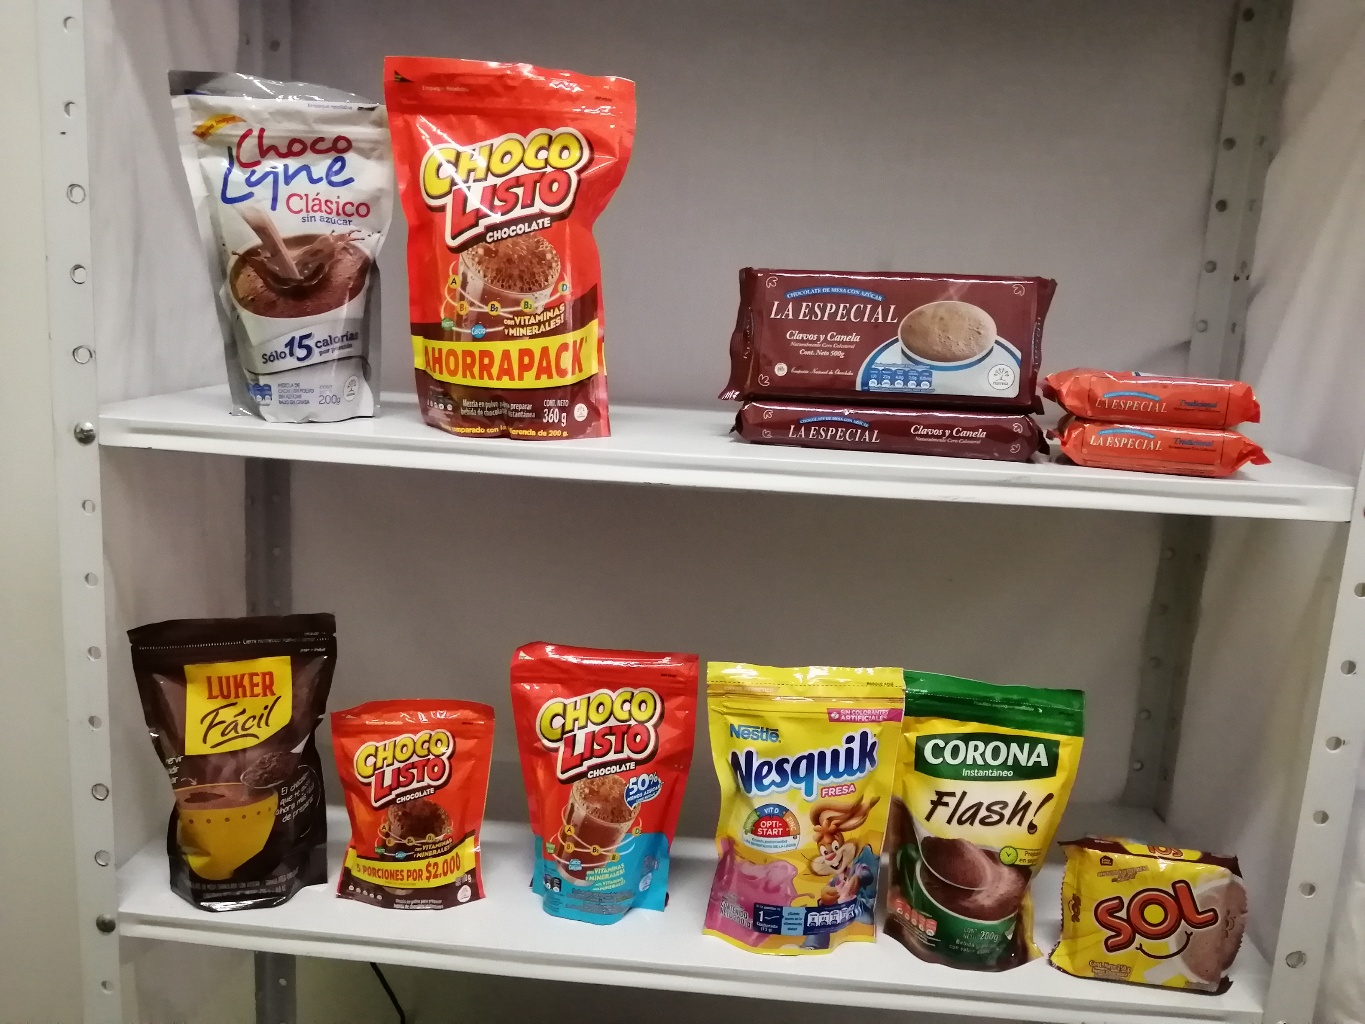COL0170103DYP36000: (376, 47, 640, 455)
COL0170104DYP20000: (497, 630, 709, 925)
COL0170305DYP20000: (694, 653, 914, 967)
